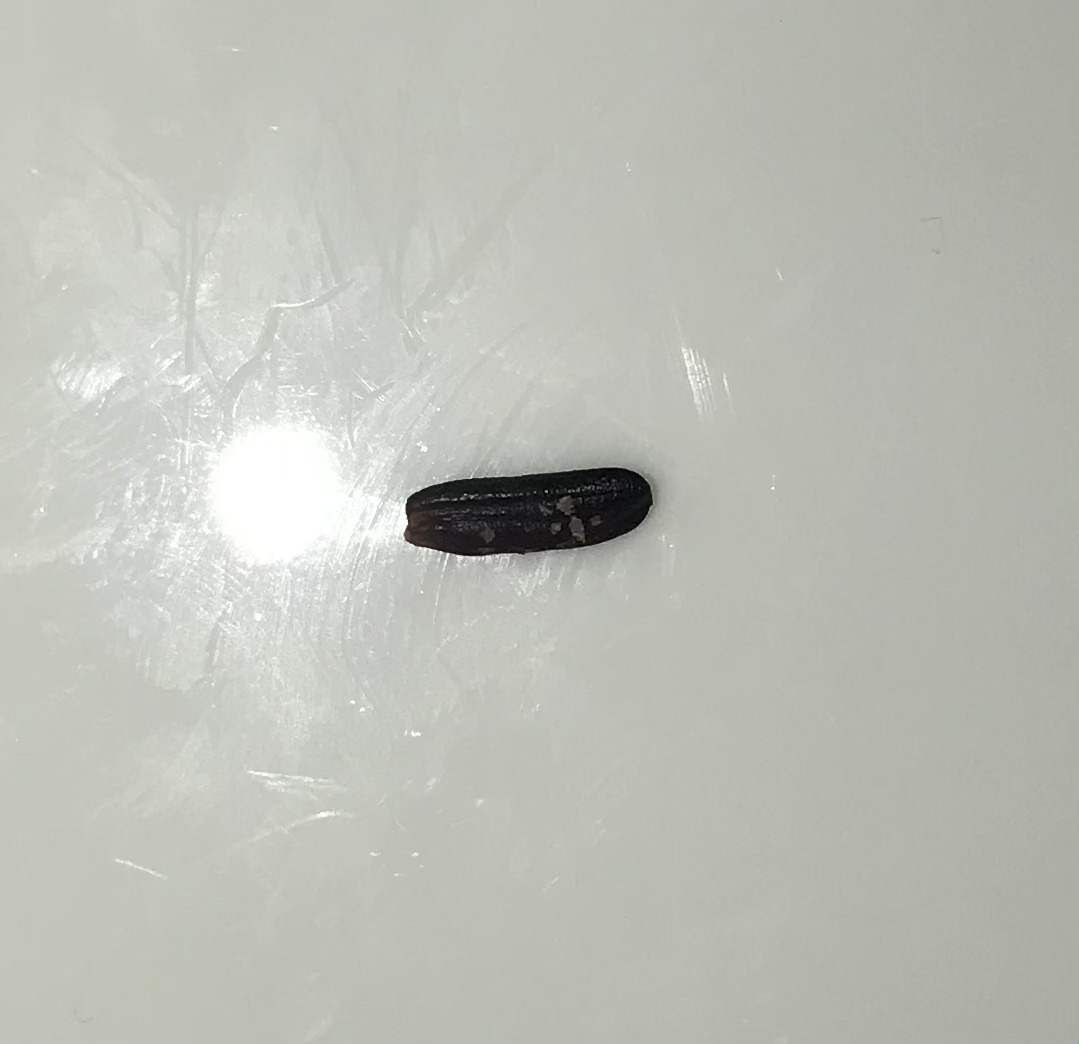Gao lut: (402, 473, 667, 552)
